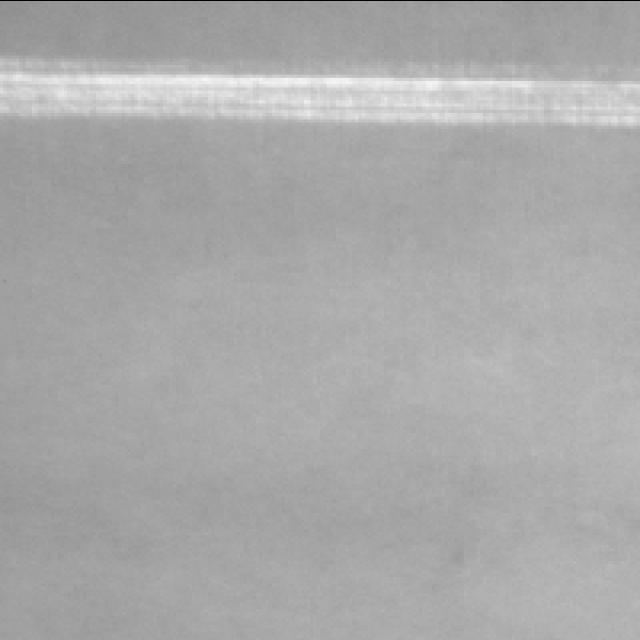scratches: (0, 58, 640, 124)
